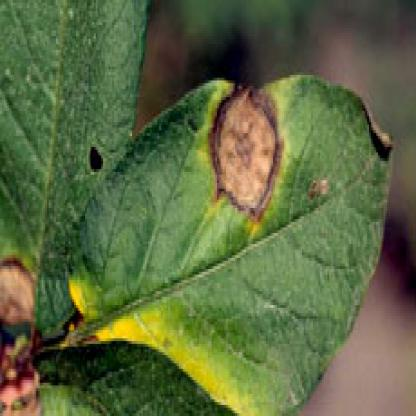potato leaf early blight: (33, 69, 394, 413)
